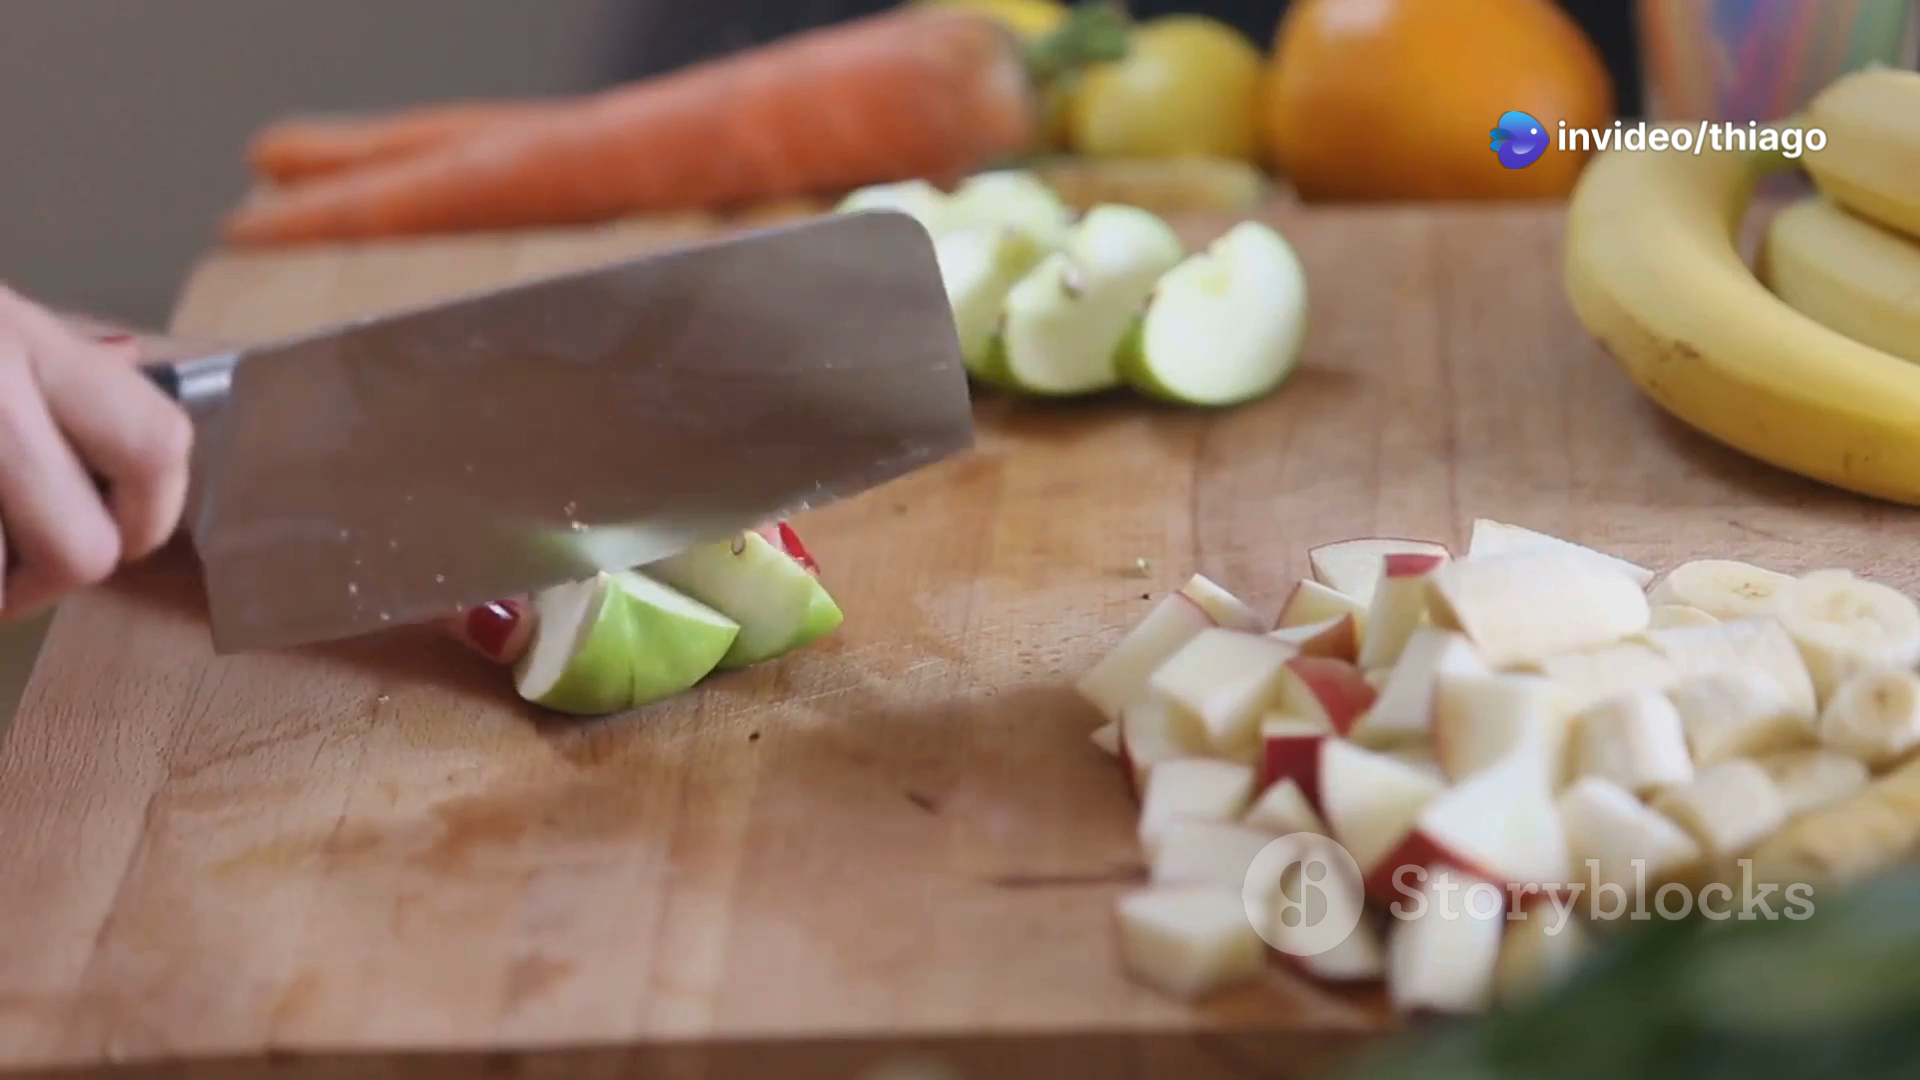cortante: (181, 206, 981, 655)
